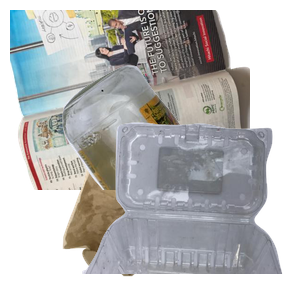glass: (60, 63, 300, 243)
paper: (10, 10, 250, 190)
plastic: (80, 120, 300, 300)
trash: (60, 142, 300, 300)
